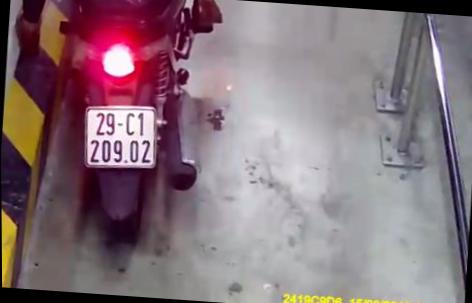LP: (77, 100, 163, 173)
